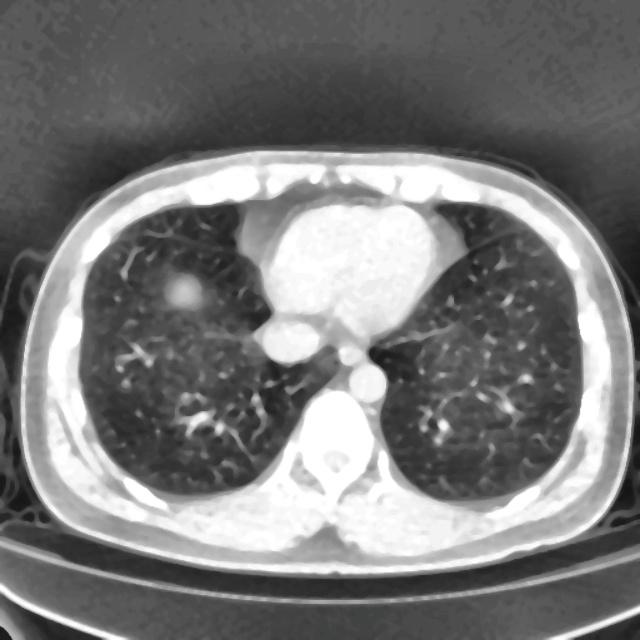covid: (16, 146, 636, 575)
